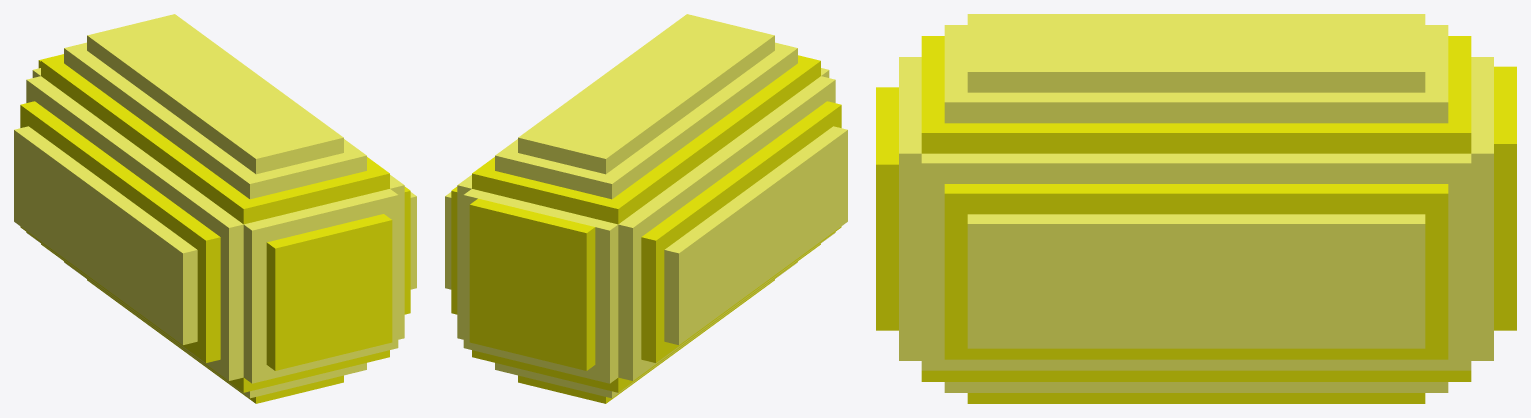
The model's file is ThorNivel5-1.obj.
3 views of the same model, side by side, from view 1: azimuth 30°, elevation 25°; view 2: azimuth 150°, elevation 25°; view 3: azimuth 270°, elevation 25° (orthographic). The views are drawn at different scales.
Size of the model in its own units: 1.6 by 1.6 by 2.8.
Materials: 1 (1 with a texture image).
